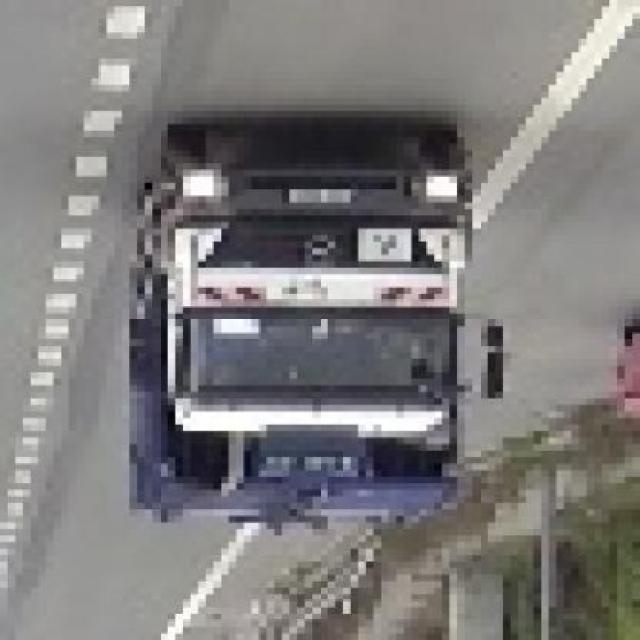truck: (108, 131, 497, 543)
